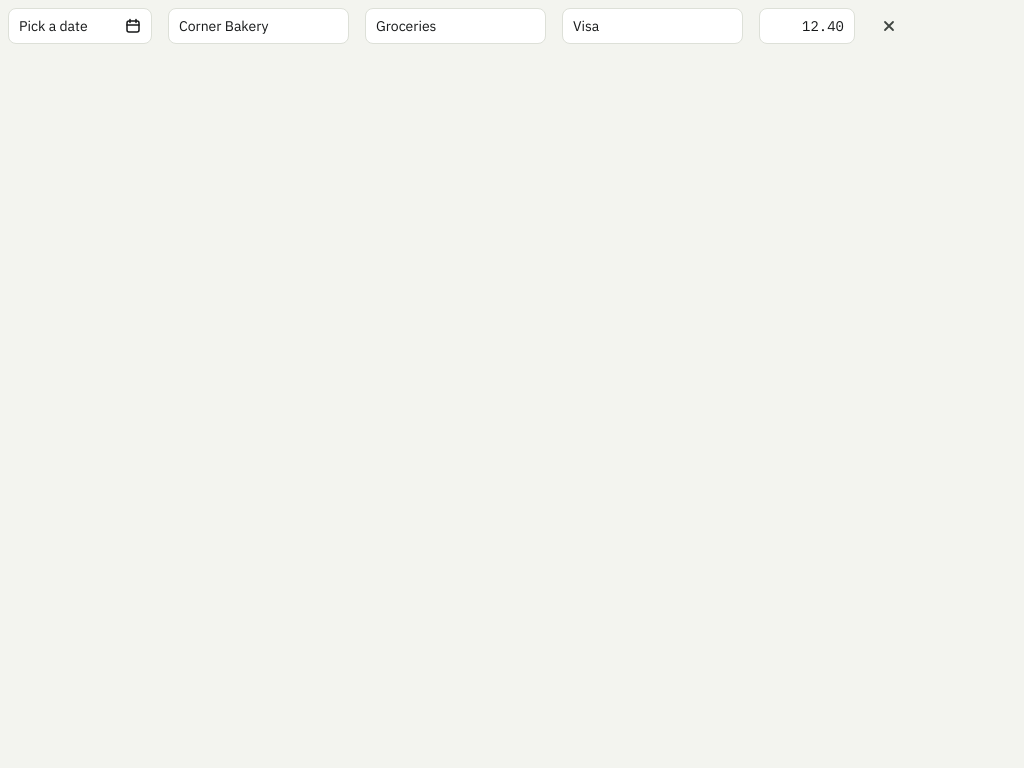
it: ImportRow autofill and keys › opens the calendar at the current month for an empty date, with future days disabled
The width and height of the screenshot is (1024, 768).
Step 1. Click the button named "Date, row 1," → [80, 26], box top-left (8, 8), bottom-right (152, 44)
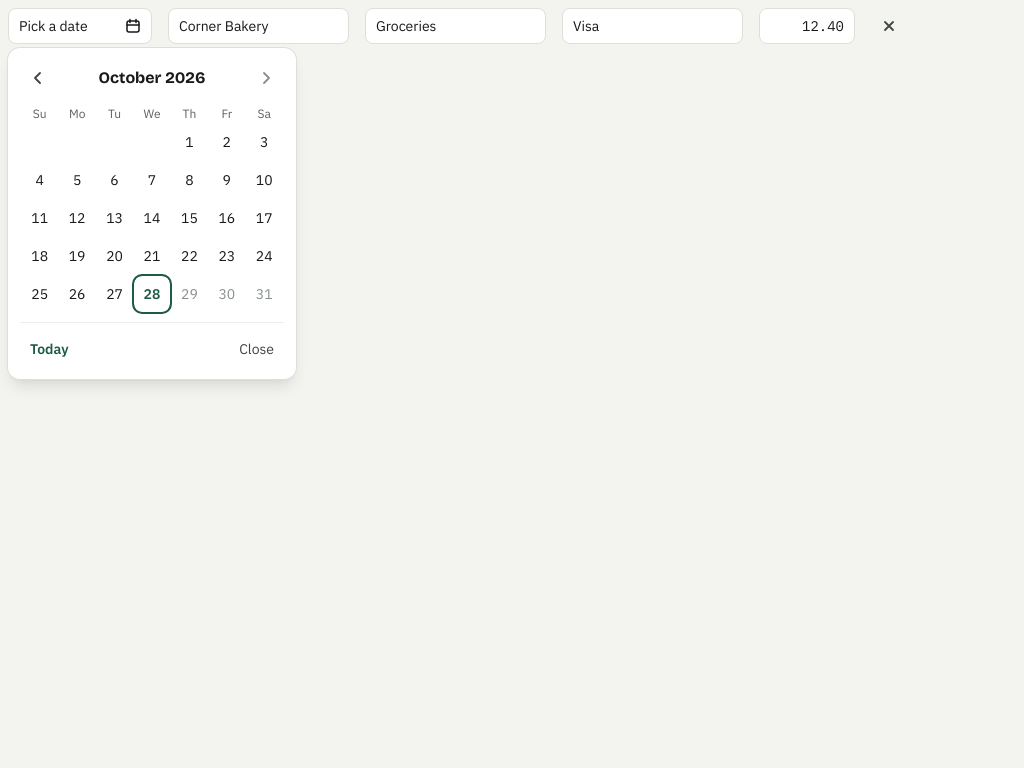
Check: the text "October 2026" is shown, box top-left (98, 66), bottom-right (205, 90)
Check: the button named "Oct 29, 2026" is disabled, box top-left (172, 276), bottom-right (207, 312)
